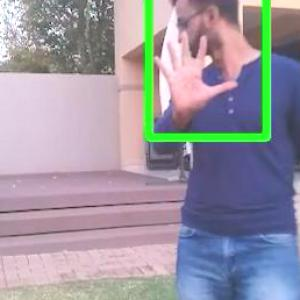follow_hand: (150, 25, 237, 120)
